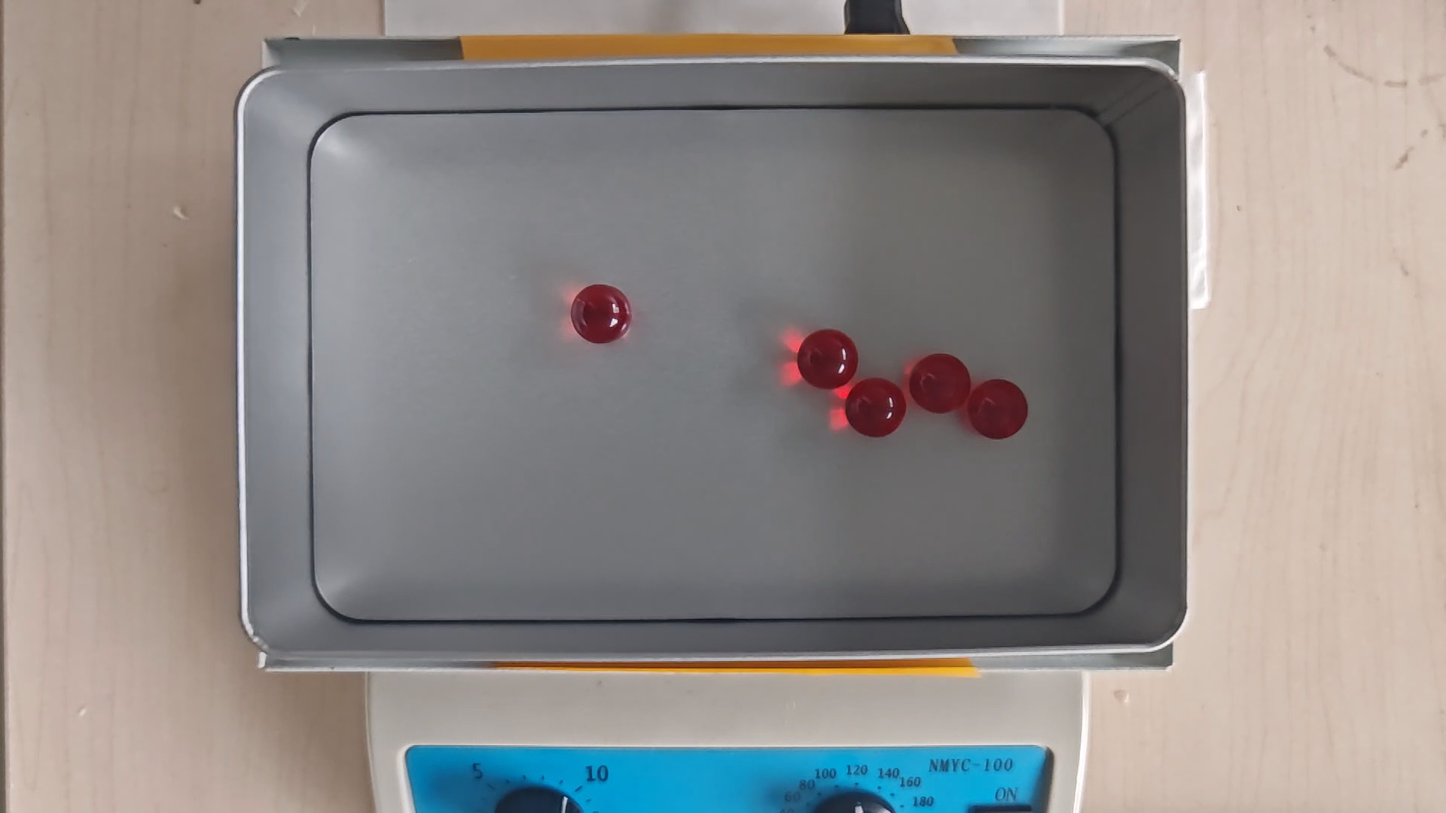ball: (908, 352, 972, 416), (797, 329, 859, 391), (846, 379, 907, 440), (570, 285, 632, 344), (969, 379, 1028, 440)
container: (308, 106, 1123, 618)
